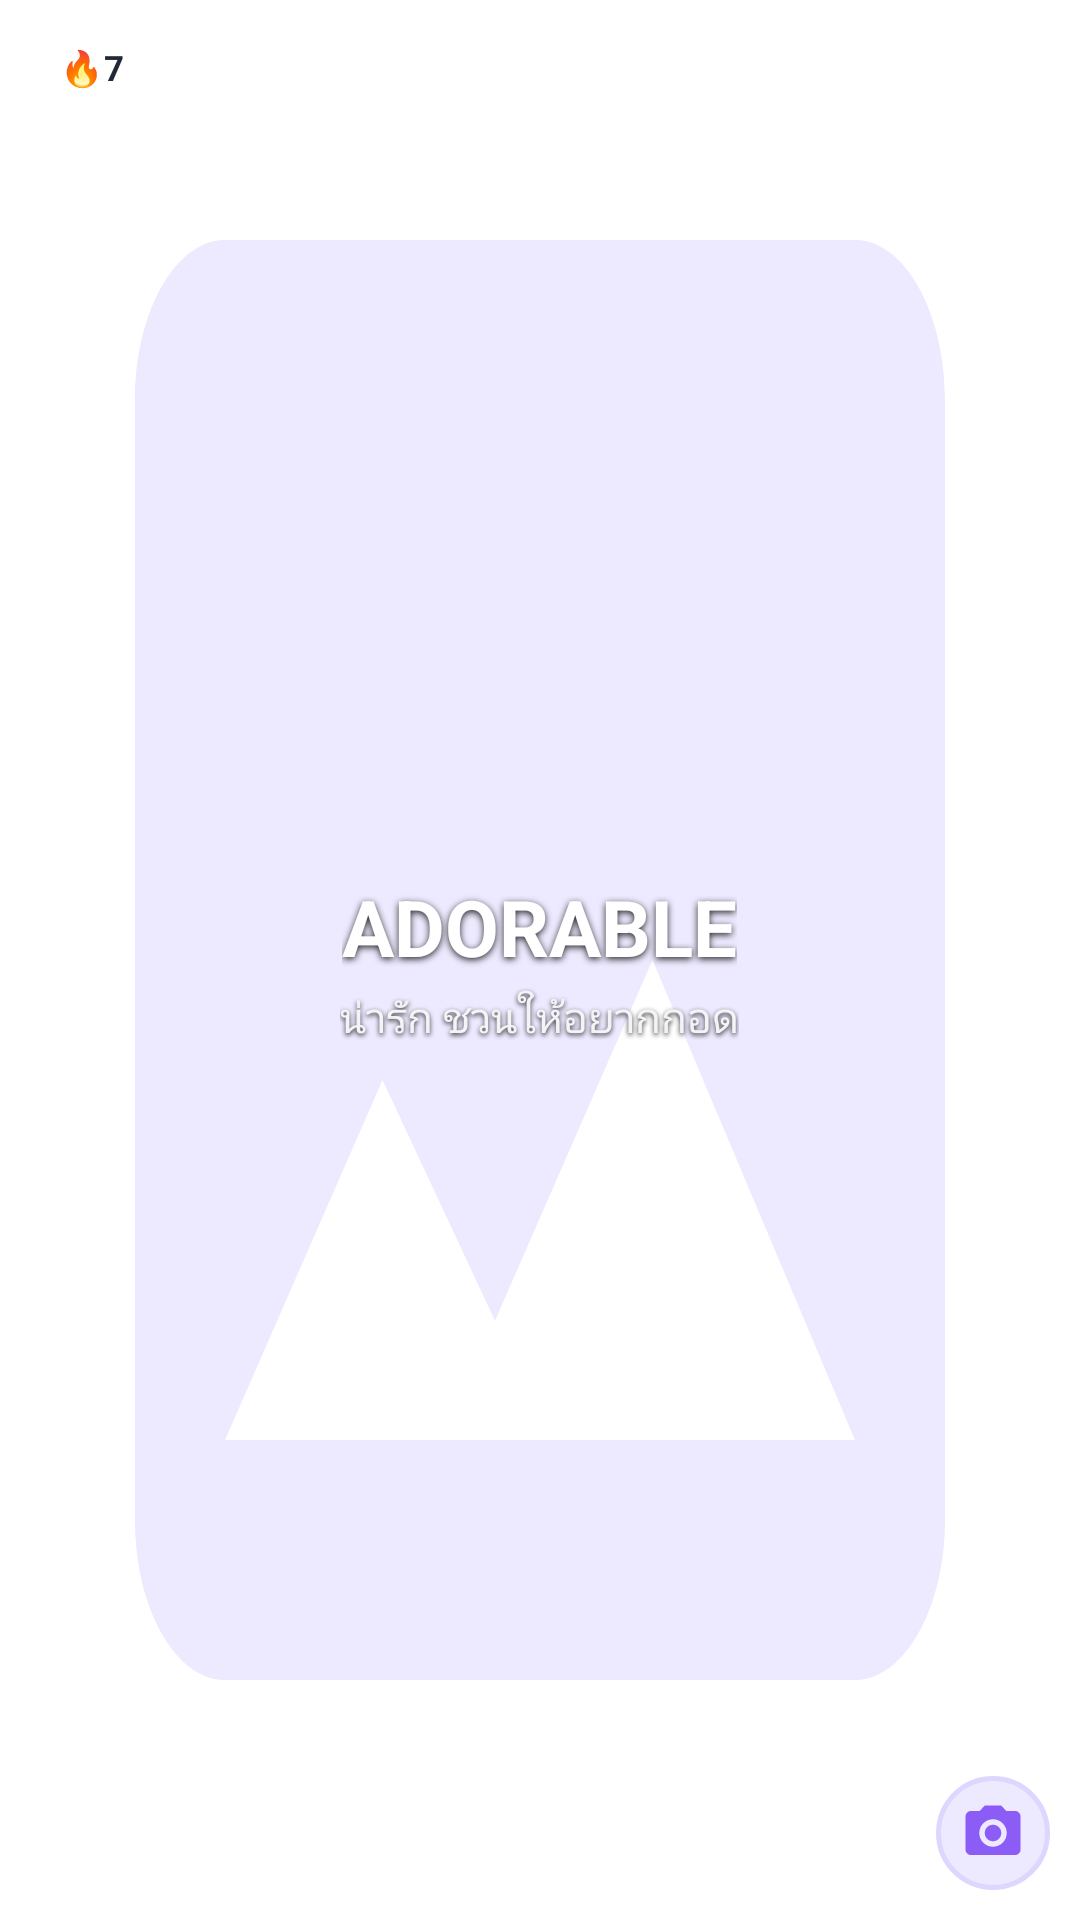

Where to tap for icons on this 1080×1920 app screen, as (x=x, y=y):
Take photo: (x=993, y=1833)
